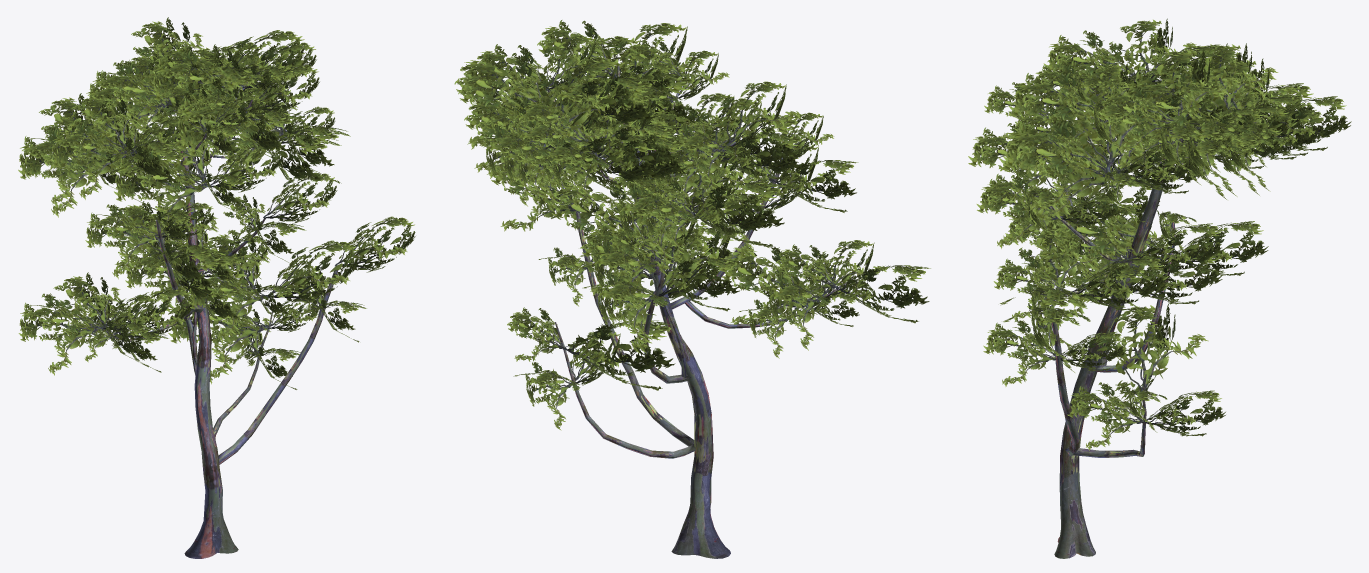
The model's file is Tree - Tree9 4-DD9eKtD_.glb.
3 renders of one model, left to right at view 1: azimuth 30°, elevation 25°; view 2: azimuth 150°, elevation 25°; view 3: azimuth 270°, elevation 25°, orthographic. The views are drawn at different scales.
Parts seen in each view (by area): view 1: Tree9_4; view 2: Tree9_4; view 3: Tree9_4.
Part boxes in pixels (<box>): Tree9_4: <box>18,17,415,558</box>; Tree9_4: <box>454,20,930,558</box>; Tree9_4: <box>968,18,1351,558</box>.
Size of the model in its own units: 20.41 by 22.46 by 15.52.
2 materials, 2 textured.
